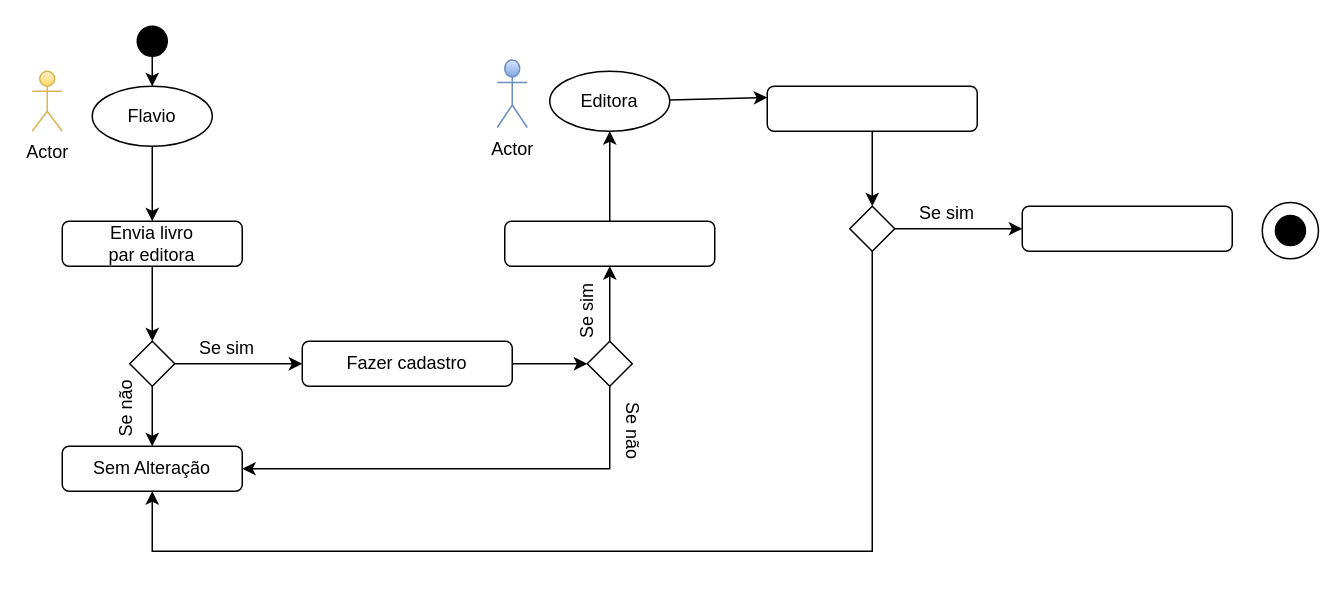
Image size: 1344x590. Some labels were removed from this diagram. Here are the shapes that lost their labels. From the top down, the centre of each, then its label:
At point (871, 108): "Analise do livro".
At point (609, 243): "Envia Livro".
At point (1126, 228): "Terá alteração".
